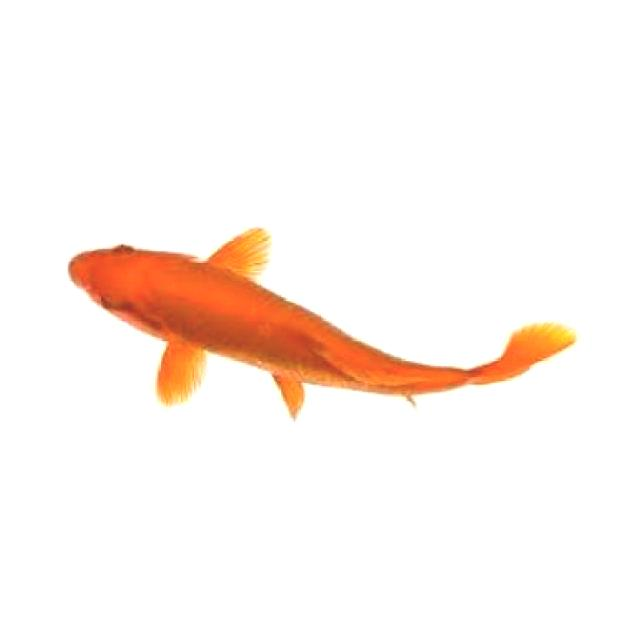ikan-mas: (60, 212, 577, 403)
